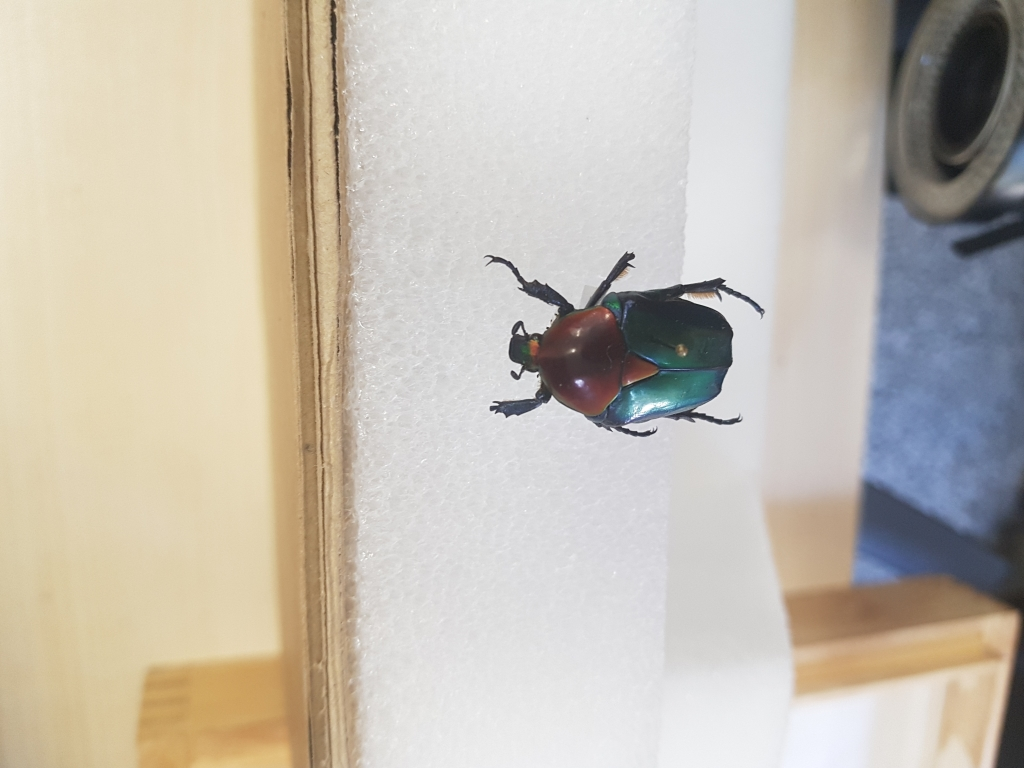Protaetia_speciosa_jousseliniw: (466, 243, 769, 438)
